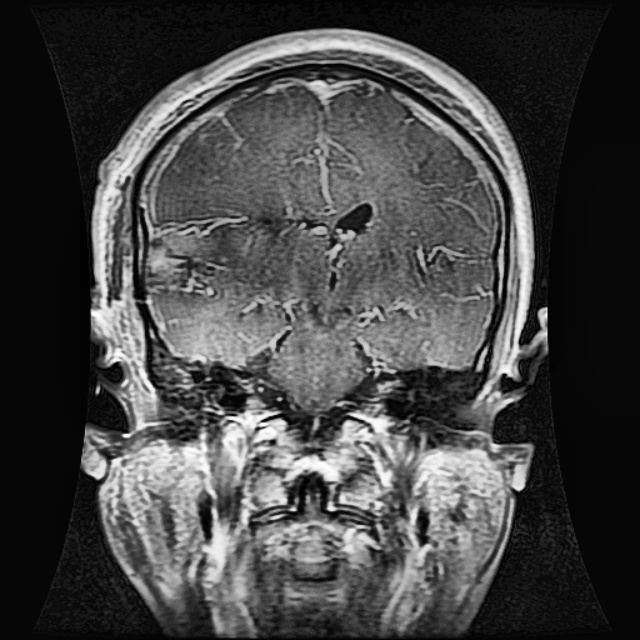Meningioma: (144, 218, 218, 294)
